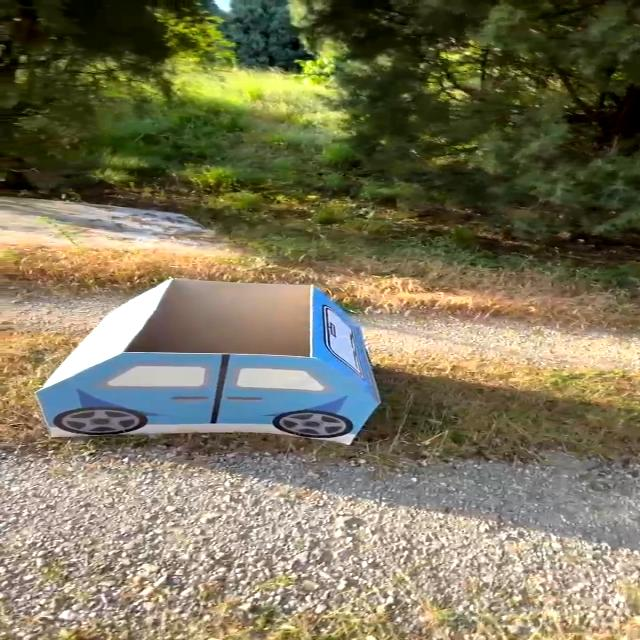blue_car: (0, 255, 437, 498)
